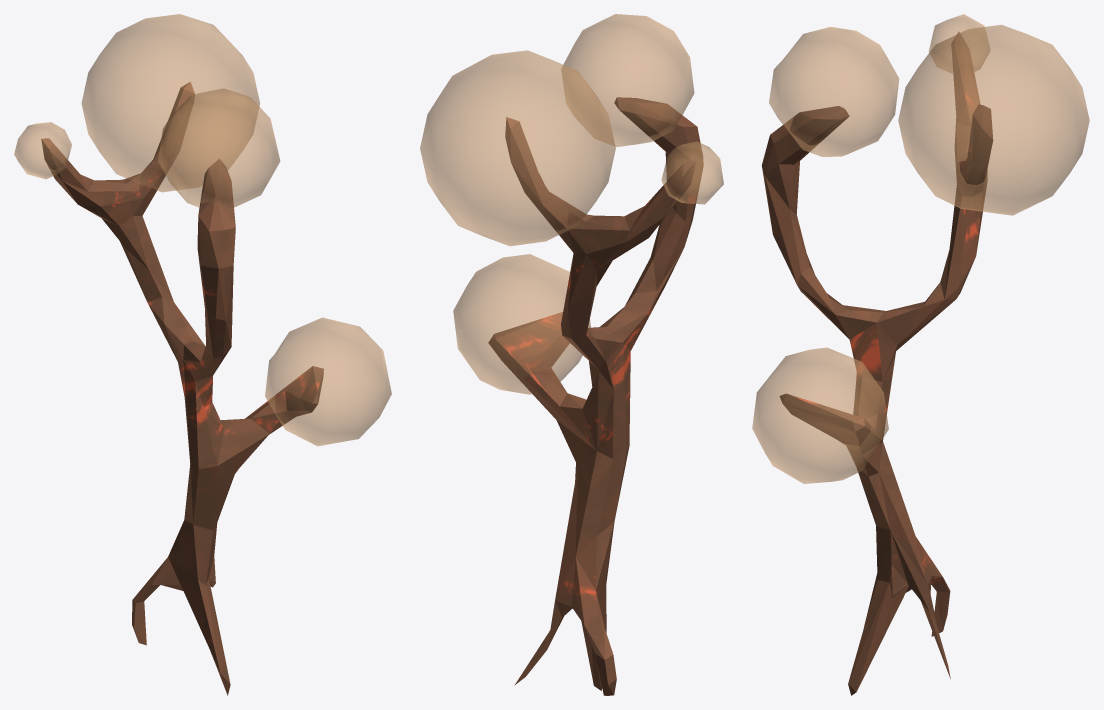
File: tree4_lod0.glb
The picture shows the model from 3 angles, left to right: view 1: azimuth 30°, elevation 25°; view 2: azimuth 150°, elevation 25°; view 3: azimuth 270°, elevation 25°; orthographic projection. The views are drawn at different scales.
Visible parts, largest first — view 1: Tree4; view 2: Tree4; view 3: Tree4.
Part boxes in pixels (bbox=[...]): Tree4: bbox=[14, 14, 391, 695]; Tree4: bbox=[420, 14, 723, 695]; Tree4: bbox=[752, 14, 1089, 695].
Size of the model in its own units: 7.83 by 15.47 by 7.09.
Materials: 2 (1 with a texture image).
